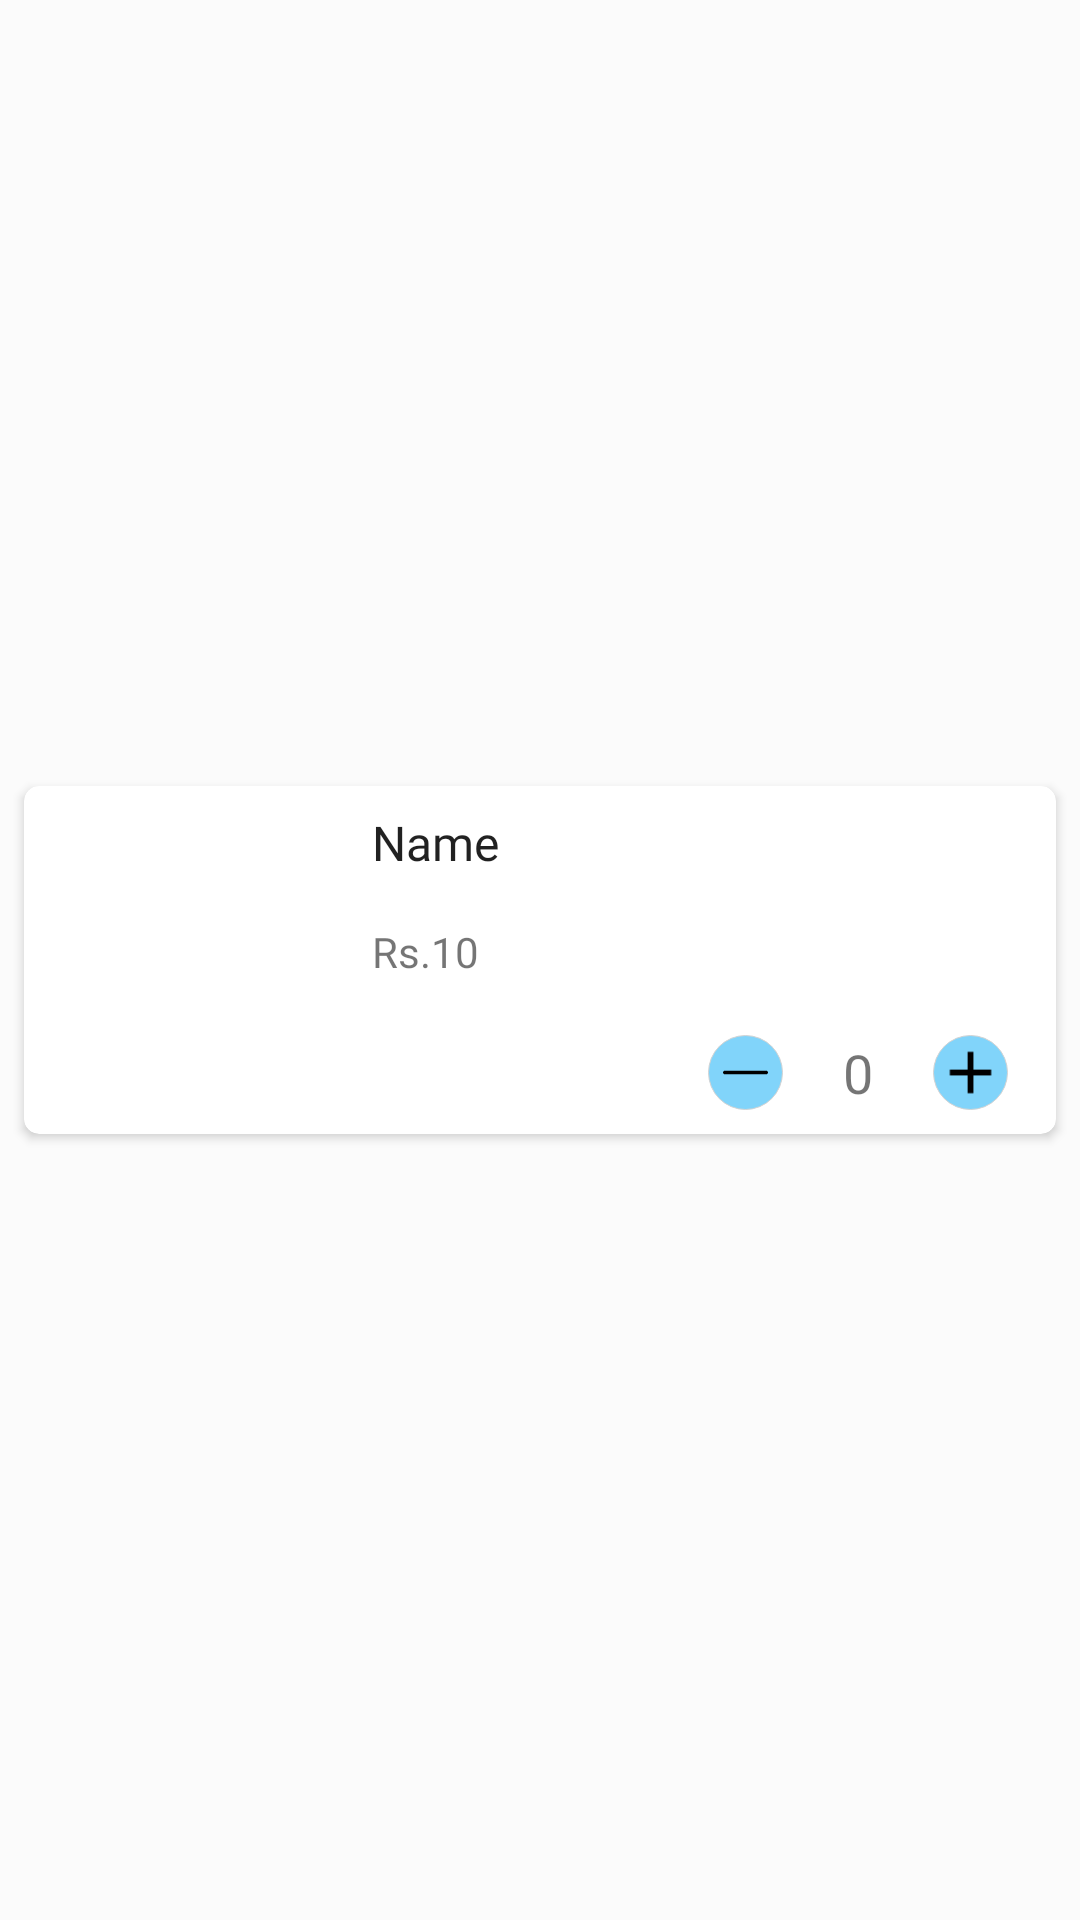

Where icons sit on this 1080 x 1920 app screen, as (x1, y1, x2, y2):
minus: (708, 1035, 783, 1110)
plus: (933, 1035, 1008, 1110)
